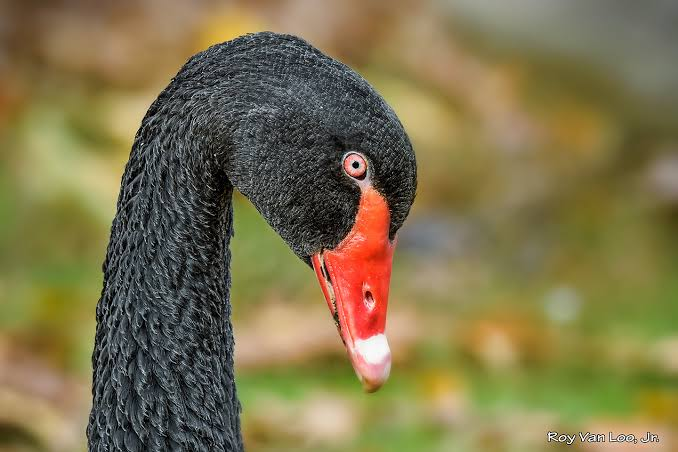black_swan: (83, 28, 419, 452)
